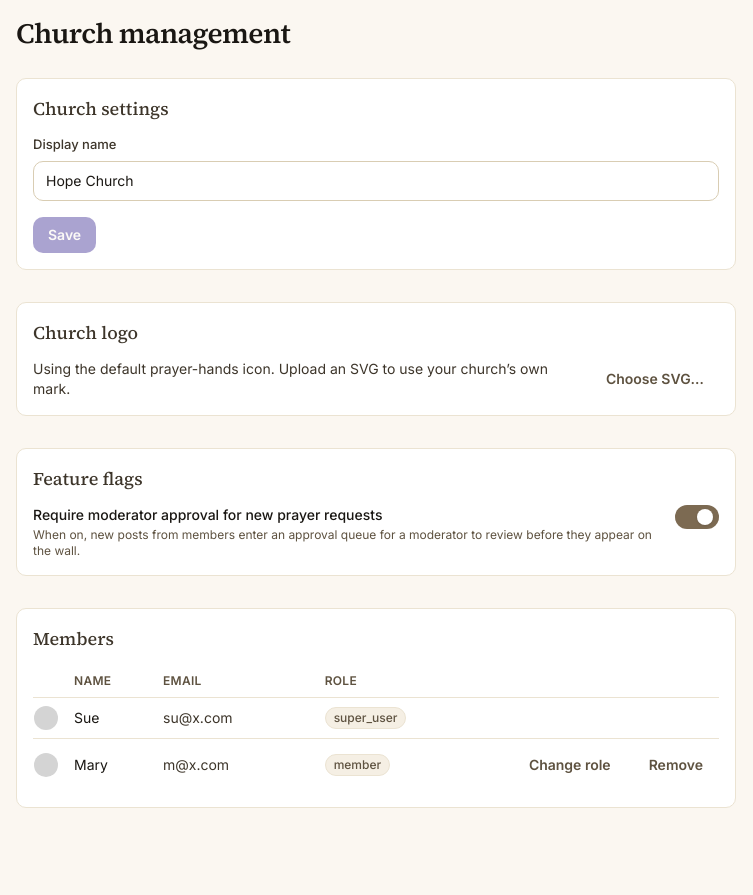
Test case: AdminChurchPage › Feature flags section › on 409 PENDING_POSTS_EXIST, shows inline error with count and link
Click the switch named "require moderator approval" at (697, 516), box x1=675 y1=504 x2=719 y2=528
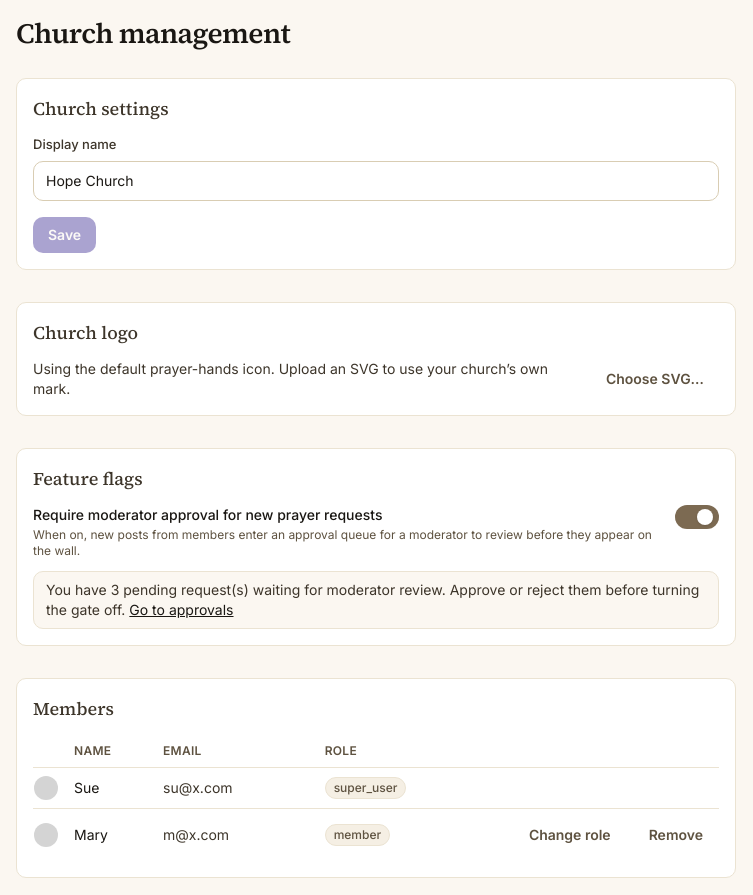
Now the message is shown, box x1=33 y1=570 x2=719 y2=628
Now the message shows "3 pending request", box x1=46 y1=580 x2=699 y2=618
Now the link "Go to approvals" is shown, box x1=129 y1=600 x2=234 y2=618
